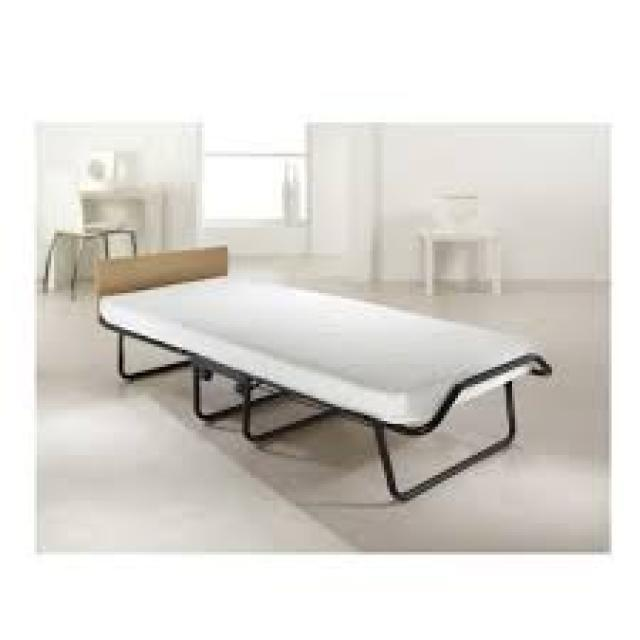bed: (91, 242, 552, 500)
